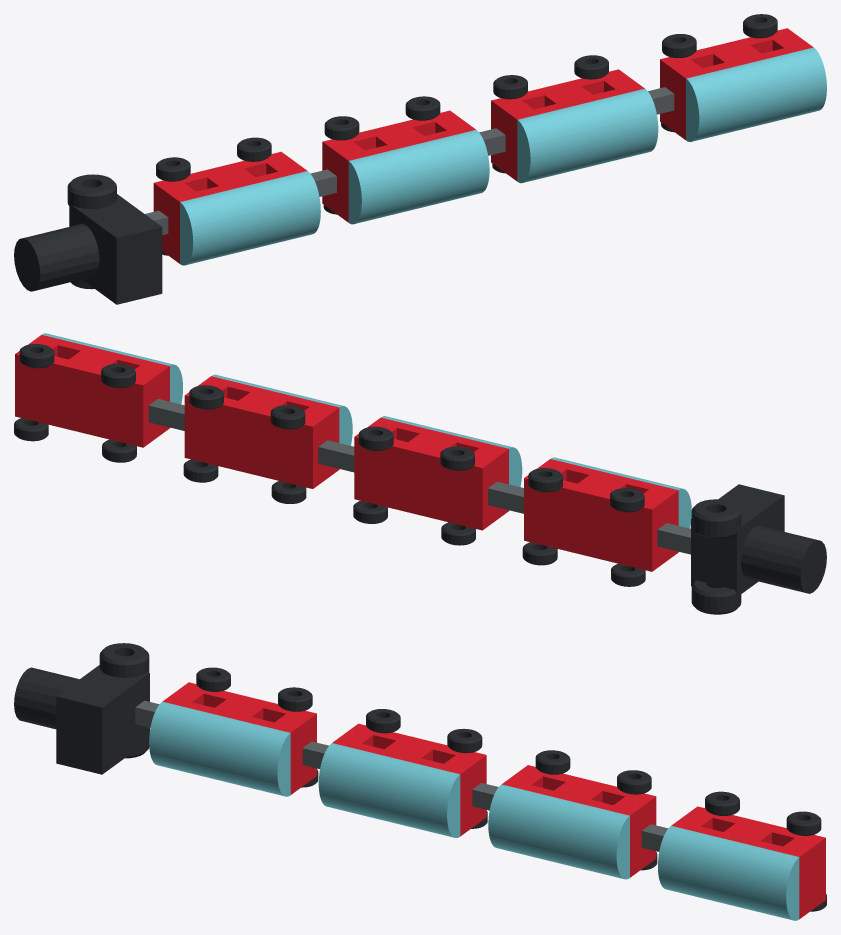
The model's file is tinker.obj.
The picture shows the model from 3 angles, top to bottom: view 1: azimuth 30°, elevation 25°; view 2: azimuth 150°, elevation 25°; view 3: azimuth 330°, elevation 25°; orthographic projection.
Parts seen in each view (by area): view 1: group_0_7720667, group_0_2829873, group_0_15277357, group_0_6383466; view 2: group_0_15277357, group_0_2829873, group_0_6383466, group_0_7720667; view 3: group_0_7720667, group_0_15277357, group_0_2829873, group_0_6383466.
Boxes of the visible parts, box(x1,y1,x2,y2) form: group_0_7720667: box(180, 47, 826, 265); group_0_2829873: box(14, 14, 777, 304); group_0_15277357: box(153, 28, 813, 263); group_0_6383466: box(145, 87, 674, 235); group_0_15277357: box(15, 335, 678, 571); group_0_2829873: box(14, 344, 826, 614); group_0_6383466: box(148, 399, 690, 554); group_0_7720667: box(42, 333, 691, 528); group_0_7720667: box(149, 701, 799, 920); group_0_15277357: box(163, 682, 825, 919); group_0_2829873: box(14, 643, 826, 911); group_0_6383466: box(135, 700, 667, 851).
Size of the model in its own units: 341 by 40.5 by 44.11.
